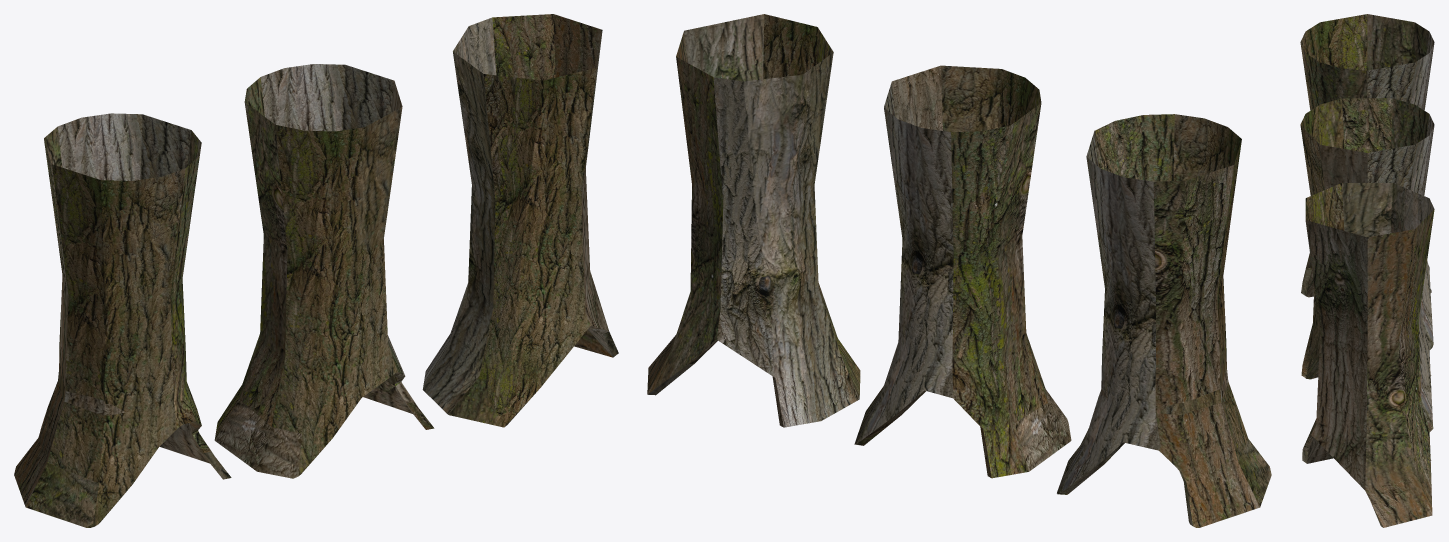
The model's file is SM_Tree_And_Bushes.fbx_SM_Tree_16_Lod.fbx.
3 renders of one model, left to right at view 1: azimuth 30°, elevation 25°; view 2: azimuth 150°, elevation 25°; view 3: azimuth 270°, elevation 25°, orthographic. The views are drawn at different scales.
Parts seen in each view (by area): view 1: SM_Tree_16_Lod_Mid, SM_Tree_16_Lod_High, SM_Tree_16_Lod_Low; view 2: SM_Tree_16_Lod_Low, SM_Tree_16_Lod_Mid, SM_Tree_16_Lod_High; view 3: SM_Tree_16_Lod_Low, SM_Tree_16_Lod_Mid, SM_Tree_16_Lod_High.
Boxes of the visible parts, left/top/right/bottom form: SM_Tree_16_Lod_Mid: left=214, top=64, right=434, bottom=478; SM_Tree_16_Lod_High: left=14, top=113, right=231, bottom=527; SM_Tree_16_Lod_Low: left=422, top=14, right=618, bottom=427; SM_Tree_16_Lod_Low: left=647, top=14, right=860, bottom=427; SM_Tree_16_Lod_Mid: left=854, top=65, right=1071, bottom=478; SM_Tree_16_Lod_High: left=1057, top=114, right=1271, bottom=527; SM_Tree_16_Lod_Low: left=1302, top=183, right=1434, bottom=527; SM_Tree_16_Lod_Mid: left=1300, top=98, right=1434, bottom=431; SM_Tree_16_Lod_High: left=1300, top=14, right=1434, bottom=349.
Bounding box in the file's own units: 18730 × 10043 × 4340.
1 material, 1 textured.
